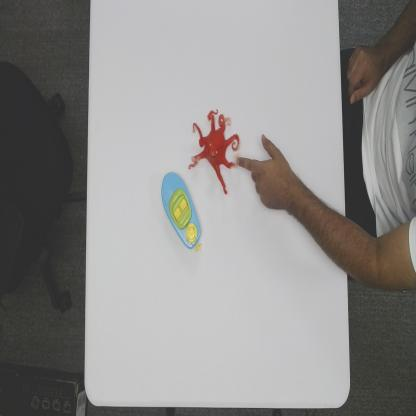Arm: (294, 176, 416, 296)
Boat: (160, 170, 202, 254)
Hand: (235, 132, 294, 210)
Octopus: (187, 108, 240, 197)
